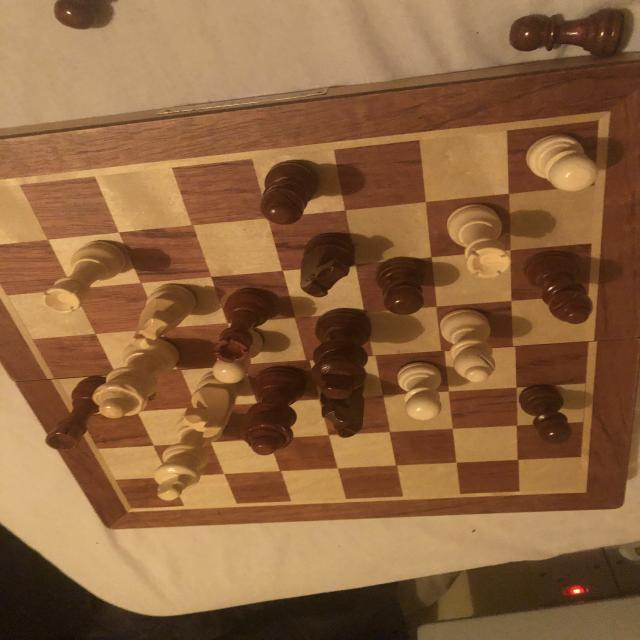black_bishop: (522, 256, 592, 324)
black_king: (312, 310, 369, 396)
black_knight: (300, 233, 350, 299), (318, 397, 366, 439)
black_pawn: (506, 7, 632, 56), (260, 162, 315, 224), (520, 386, 570, 442), (376, 258, 420, 314)
black_queen: (248, 367, 300, 457)
black_rook: (212, 288, 272, 360), (46, 377, 102, 451)
white_bishop: (438, 310, 498, 384)
white_king: (151, 432, 206, 500)
white_knight: (128, 286, 194, 343), (180, 378, 232, 438)
white_pawn: (525, 136, 603, 192), (398, 364, 440, 420), (214, 362, 246, 384)
white_queen: (92, 342, 176, 420)
white_rook: (42, 240, 122, 312), (444, 203, 508, 277)
